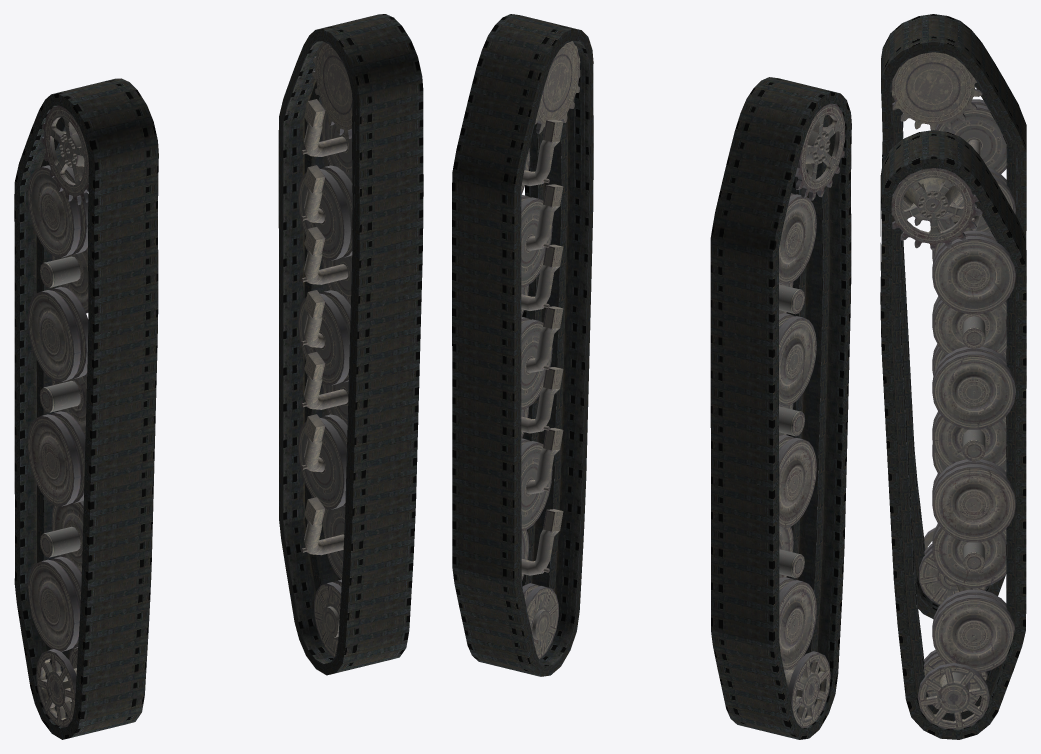
The model's file is Chassis.glb.
3 renders of one model, left to right at view 1: azimuth 30°, elevation 25°; view 2: azimuth 150°, elevation 25°; view 3: azimuth 270°, elevation 25°, orthographic. The views are drawn at different scales.
Visible parts, largest first — view 1: set_1_group_0, set_3_group_0, set_4_group_0, set_5_group_0, set_2_group_0, set_0_group_0; view 2: set_1_group_0, set_3_group_0, set_4_group_0, set_5_group_0, set_0_group_0, set_2_group_0; view 3: set_5_group_0, set_1_group_0, set_3_group_0, set_4_group_0, set_0_group_0, set_2_group_0.
Boxes of the visible parts, x1=… form: set_1_group_0: x1=278, y1=14, x2=423, y2=675; set_3_group_0: x1=14, y1=78, x2=158, y2=739; set_4_group_0: x1=27, y1=105, x2=95, y2=727; set_5_group_0: x1=298, y1=42, x2=352, y2=657; set_2_group_0: x1=87, y1=154, x2=158, y2=248; set_0_group_0: x1=352, y1=176, x2=423, y2=257; set_1_group_0: x1=452, y1=14, x2=593, y2=676; set_3_group_0: x1=710, y1=77, x2=851, y2=739; set_4_group_0: x1=779, y1=103, x2=845, y2=728; set_5_group_0: x1=521, y1=41, x2=580, y2=659; set_0_group_0: x1=525, y1=136, x2=593, y2=215; set_2_group_0: x1=791, y1=125, x2=851, y2=206; set_5_group_0: x1=891, y1=168, x2=1015, y2=729; set_1_group_0: x1=880, y1=130, x2=1026, y2=739; set_3_group_0: x1=881, y1=14, x2=1026, y2=618; set_4_group_0: x1=891, y1=52, x2=1015, y2=604; set_0_group_0: x1=880, y1=256, x2=901, y2=341; set_2_group_0: x1=881, y1=88, x2=903, y2=159.
Size of the model in its own units: 3.32 by 6.23 by 1.42.
Materials: 6 (6 with a texture image).
